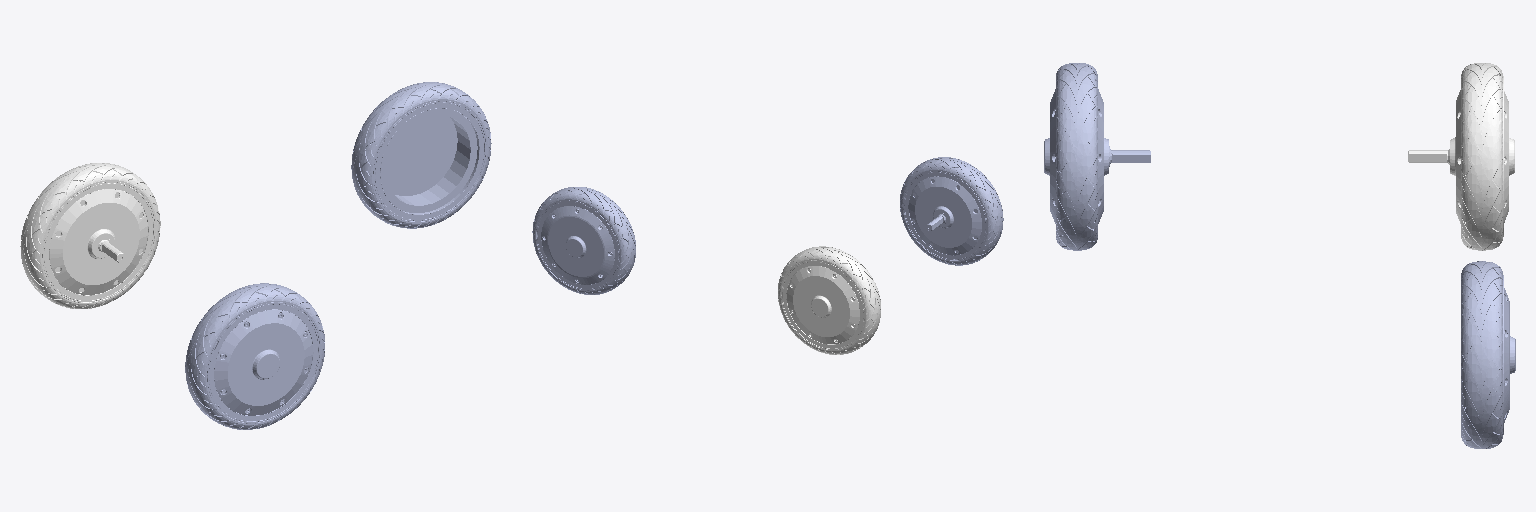
The robot description file, URDF, robot "tomato_car":
<?xml version="1.0" encoding="utf-8"?>
<!-- This URDF was automatically created by SolidWorks to URDF Exporter! Originally created by Stephen Brawner (brawner@gmail.com) 
     Commit Version: 1.6.0-4-g7f85cfe  Build Version: 1.6.7995.38578
     For more information, please see http://wiki.ros.org/sw_urdf_exporter -->
<robot
  name="tomato_car">
  <link
    name="base_link">
    <inertial>
      <origin
        xyz="0.32752 -0.0028149 0.16392"
        rpy="0 0 0" />
      <mass
        value="41.83" />
      <inertia
        ixx="0.35581"
        ixy="-0.00042322"
        ixz="0.0089393"
        iyy="1.5268"
        iyz="-0.00022991"
        izz="1.6022" />
    </inertial>
    <visual>
      <origin
        xyz="0 0 0"
        rpy="0 0 0" />
      <geometry>
        <mesh
          filename="package://tomato_car/meshes/base_link.STL" />
      </geometry>
      <material
        name="">
        <color
          rgba="1 1 1 1" />
      </material>
    </visual>
    <collision>
      <origin
        xyz="0 0 0"
        rpy="0 0 0" />
      <geometry>
        <mesh
          filename="package://tomato_car/meshes/base_link.STL" />
      </geometry>
    </collision>
  </link>
  <link
    name="frot_right_wheel_link">
    <inertial>
      <origin
        xyz="7.9717E-07 -0.0031072 -4.9001E-07"
        rpy="0 0 0" />
      <mass
        value="1.4097" />
      <inertia
        ixx="0.0068422"
        ixy="-2.974E-09"
        ixz="2.9632E-07"
        iyy="0.012971"
        iyz="-2.6621E-09"
        izz="0.0068424" />
    </inertial>
    <visual>
      <origin
        xyz="0 0 0"
        rpy="0 0 0" />
      <geometry>
        <mesh
          filename="package://tomato_car/meshes/frot_right_wheel_link.STL" />
      </geometry>
      <material
        name="">
        <color
          rgba="0.79216 0.81961 0.93333 1" />
      </material>
    </visual>
    <collision>
      <origin
        xyz="0 0 0"
        rpy="0 0 0" />
      <geometry>
        <mesh
          filename="package://tomato_car/meshes/frot_right_wheel_link.STL" />
      </geometry>
    </collision>
  </link>
  <joint
    name="frot_right_wheel_joint"
    type="continuous">
    <origin
      xyz="0.6 -0.25872 -1.3111E-05"
      rpy="0 0 0" />
    <parent
      link="base_link" />
    <child
      link="frot_right_wheel_link" />
    <axis
      xyz="0 -1 0" />
  </joint>
  <link
    name="frot_left_wheel_link">
    <inertial>
      <origin
        xyz="7.1211E-07 0.0035556 -6.725E-07"
        rpy="0 0 0" />
      <mass
        value="1.4097" />
      <inertia
        ixx="0.0068419"
        ixy="-1.6285E-09"
        ixz="-1.4286E-08"
        iyy="0.01297"
        iyz="-2.8534E-09"
        izz="0.0068423" />
    </inertial>
    <visual>
      <origin
        xyz="0 0 0"
        rpy="0 0 0" />
      <geometry>
        <mesh
          filename="package://tomato_car/meshes/frot_left_wheel_link.STL" />
      </geometry>
      <material
        name="">
        <color
          rgba="0.79216 0.81961 0.93333 1" />
      </material>
    </visual>
    <collision>
      <origin
        xyz="0 0 0"
        rpy="0 0 0" />
      <geometry>
        <mesh
          filename="package://tomato_car/meshes/frot_left_wheel_link.STL" />
      </geometry>
    </collision>
  </link>
  <joint
    name="frot_left_wheel_joint"
    type="continuous">
    <origin
      xyz="0.6 0.25872 -1.3105E-05"
      rpy="0 0 0" />
    <parent
      link="base_link" />
    <child
      link="frot_left_wheel_link" />
    <axis
      xyz="0 -1 0" />
  </joint>
  <link
    name="behind_right_wheel_link">
    <inertial>
      <origin
        xyz="-1.5435E-07 0.00024385 -4.6755E-07"
        rpy="0 0 0" />
      <mass
        value="2.6029" />
      <inertia
        ixx="0.0091142"
        ixy="1.6802E-09"
        ixz="-4.0466E-07"
        iyy="0.016524"
        iyz="1.4371E-07"
        izz="0.0091145" />
    </inertial>
    <visual>
      <origin
        xyz="0 0 0"
        rpy="0 0 0" />
      <geometry>
        <mesh
          filename="package://tomato_car/meshes/behind_right_wheel_link.STL" />
      </geometry>
      <material
        name="">
        <color
          rgba="0.79216 0.81961 0.93333 1" />
      </material>
    </visual>
    <collision>
      <origin
        xyz="0 0 0"
        rpy="0 0 0" />
      <geometry>
        <mesh
          filename="package://tomato_car/meshes/behind_right_wheel_link.STL" />
      </geometry>
    </collision>
  </link>
  <joint
    name="behind_right_wheel_joint"
    type="continuous">
    <origin
      xyz="0 -0.25872 0"
      rpy="0 0 0" />
    <parent
      link="base_link" />
    <child
      link="behind_right_wheel_link" />
    <axis
      xyz="0 -1 0" />
  </joint>
  <link
    name="behind_left_wheel_link">
    <inertial>
      <origin
        xyz="0 0 0"
        rpy="0 0 0" />
      <mass
        value="0" />
      <inertia
        ixx="0"
        ixy="0"
        ixz="0"
        iyy="0"
        iyz="0"
        izz="0" />
    </inertial>
    <visual>
      <origin
        xyz="0 0 0"
        rpy="0 0 0" />
      <geometry>
        <mesh
          filename="package://tomato_car/meshes/behind_left_wheel_link.STL" />
      </geometry>
      <material
        name="">
        <color
          rgba="1 1 1 1" />
      </material>
    </visual>
    <collision>
      <origin
        xyz="0 0 0"
        rpy="0 0 0" />
      <geometry>
        <mesh
          filename="package://tomato_car/meshes/behind_left_wheel_link.STL" />
      </geometry>
    </collision>
  </link>
  <joint
    name="behind_left_wheel_joint"
    type="continuous">
    <origin
      xyz="0 0.25872 0"
      rpy="0 0 0" />
    <parent
      link="base_link" />
    <child
      link="behind_left_wheel_link" />
    <axis
      xyz="0 -1 0" />
  </joint>
</robot>

--- What the picture shows (computed from the rendered views, not written in the file) ---
The picture shows the robot from 3 angles, left to right: view 1: azimuth 30°, elevation 25°; view 2: azimuth 150°, elevation 25°; view 3: azimuth 270°, elevation 25°; orthographic projection.
Robot: tomato_car — 5 links, 4 joints (4 continuous); root link base_link; default pose: every joint at zero.
Links seen in each view (by area): view 1: behind_right_wheel_link, frot_left_wheel_link, behind_left_wheel_link; view 2: behind_left_wheel_link, frot_left_wheel_link, behind_right_wheel_link; view 3: behind_right_wheel_link, behind_left_wheel_link, frot_left_wheel_link.
Link boxes in pixels (<box>): behind_right_wheel_link: <box>185,283,324,429</box>; frot_left_wheel_link: <box>351,82,491,228</box>; behind_left_wheel_link: <box>20,163,160,308</box>; behind_left_wheel_link: <box>778,246,880,354</box>; frot_left_wheel_link: <box>532,187,635,294</box>; behind_right_wheel_link: <box>900,157,1003,265</box>; behind_right_wheel_link: <box>1044,63,1150,250</box>; behind_left_wheel_link: <box>1408,63,1514,250</box>; frot_left_wheel_link: <box>1461,261,1515,448</box>.
Size in the robot's own frame: 0.84 by 0.6014 by 0.24 metres.
3 mesh visuals loaded from 5 distinct referenced files (3 binary STL); not drawn: 2 (reference not matched to a file when rendering).
